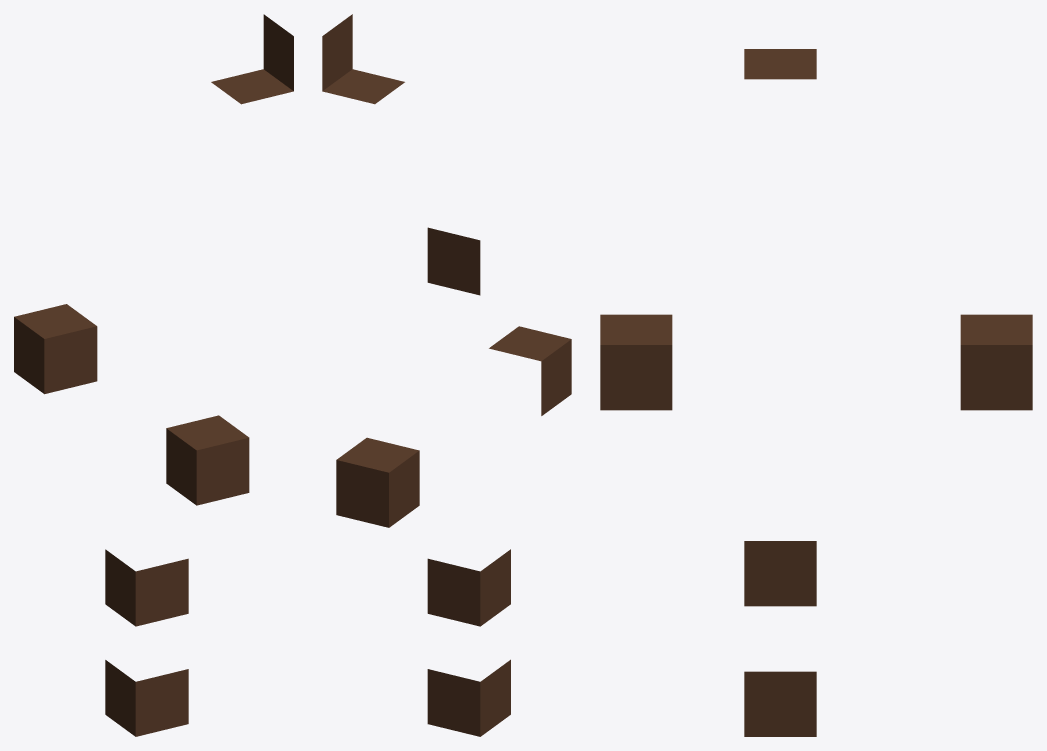
The model's file is tree-cherry-0p9-white-5a3a26.gltf.
The picture shows the model from 3 angles, left to right: view 1: azimuth 30°, elevation 25°; view 2: azimuth 150°, elevation 25°; view 3: azimuth 270°, elevation 25°; orthographic projection. The views are drawn at different scales.
Visible parts, largest first — view 1: tree-cherry-0p9-white-5a3a26; view 2: tree-cherry-0p9-white-5a3a26; view 3: tree-cherry-0p9-white-5a3a26.
Boxes of the visible parts, <box> form: tree-cherry-0p9-white-5a3a26: <box>14,14,293,736</box>; tree-cherry-0p9-white-5a3a26: <box>322,14,571,736</box>; tree-cherry-0p9-white-5a3a26: <box>600,49,1032,736</box>.
Size of the model in its own units: 3 by 12 by 6.
